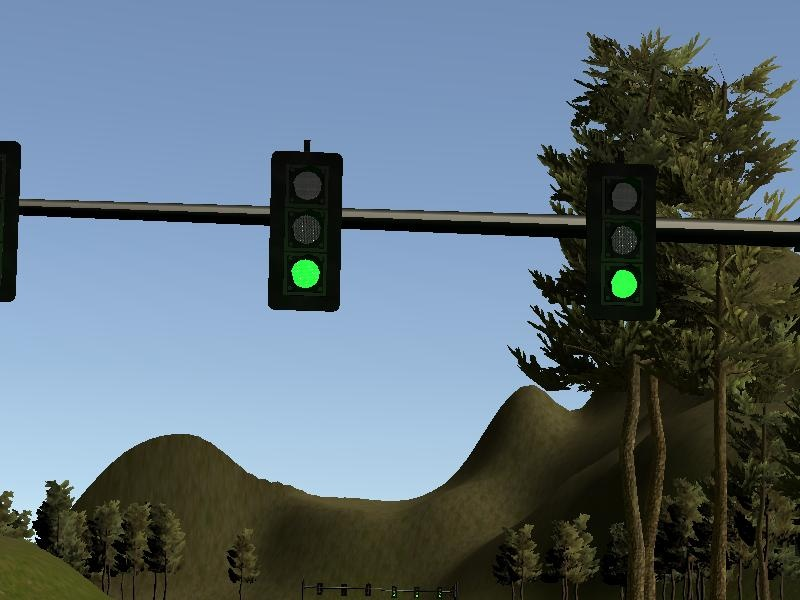GREEN: (269, 149, 342, 311), (588, 163, 657, 319)
